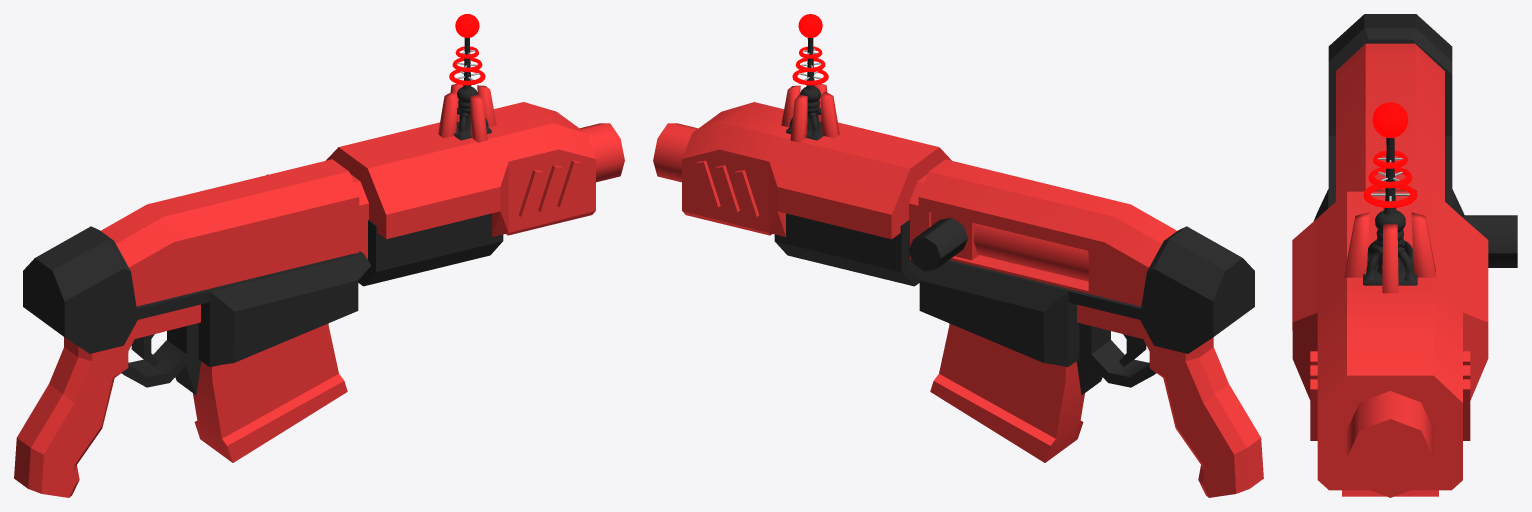
Rendered from pistola.fbx.
The picture shows the model from 3 angles, left to right: view 1: azimuth 30°, elevation 25°; view 2: azimuth 150°, elevation 25°; view 3: azimuth 270°, elevation 25°; orthographic projection. The views are drawn at different scales.
Visible parts, largest first — view 1: Line1321, Line1322, Line1323, Line1320, Line1318, Line1324, Rectangle400, tesla, Line1332, Cylinder1188, Rectangle401; view 2: Line1322, Line1321, Line1323, Line1320, Line1318, Line1324, Rectangle400, Cylinder1188, tesla, Line1332, Circle023, Rectangle401; view 3: Line1322, Line1321, tesla, Cylinder1188, Line1320, Circle023, Rectangle404, Line1323, Line1324.
Part boxes in pixels (x1=…): Line1321: x1=101, y1=159, x2=359, y2=306; Line1322: x1=326, y1=102, x2=595, y2=239; Line1323: x1=193, y1=323, x2=347, y2=462; Line1320: x1=23, y1=226, x2=355, y2=353; Line1318: x1=14, y1=304, x2=200, y2=497; Line1324: x1=198, y1=251, x2=371, y2=366; Rectangle400: x1=358, y1=213, x2=503, y2=286; tesla: x1=438, y1=14, x2=496, y2=142; Line1332: x1=121, y1=323, x2=201, y2=394; Cylinder1188: x1=580, y1=123, x2=624, y2=182; Rectangle401: x1=350, y1=174, x2=368, y2=259; Line1322: x1=682, y1=102, x2=951, y2=239; Line1321: x1=918, y1=159, x2=1176, y2=306; Line1323: x1=930, y1=323, x2=1084, y2=462; Line1320: x1=947, y1=226, x2=1254, y2=353; Line1318: x1=1077, y1=304, x2=1263, y2=497; Line1324: x1=906, y1=258, x2=1079, y2=366; Rectangle400: x1=774, y1=213, x2=919, y2=286; Cylinder1188: x1=653, y1=123, x2=1088, y2=281; tesla: x1=781, y1=14, x2=839, y2=142; Line1332: x1=1076, y1=323, x2=1156, y2=394; Circle023: x1=908, y1=217, x2=967, y2=271; Rectangle401: x1=909, y1=174, x2=978, y2=260; Line1322: x1=1292, y1=191, x2=1488, y2=490; Line1321: x1=1336, y1=43, x2=1444, y2=201; tesla: x1=1344, y1=102, x2=1435, y2=293; Cylinder1188: x1=1346, y1=391, x2=1433, y2=497; Line1320: x1=1328, y1=14, x2=1452, y2=207; Circle023: x1=1460, y1=215, x2=1517, y2=267; Rectangle404: x1=1310, y1=379, x2=1470, y2=440; Line1323: x1=1342, y1=490, x2=1438, y2=496; Line1324: x1=1314, y1=189, x2=1464, y2=220.
Size of the model in its own units: 55.44 by 33.91 by 12.39.
